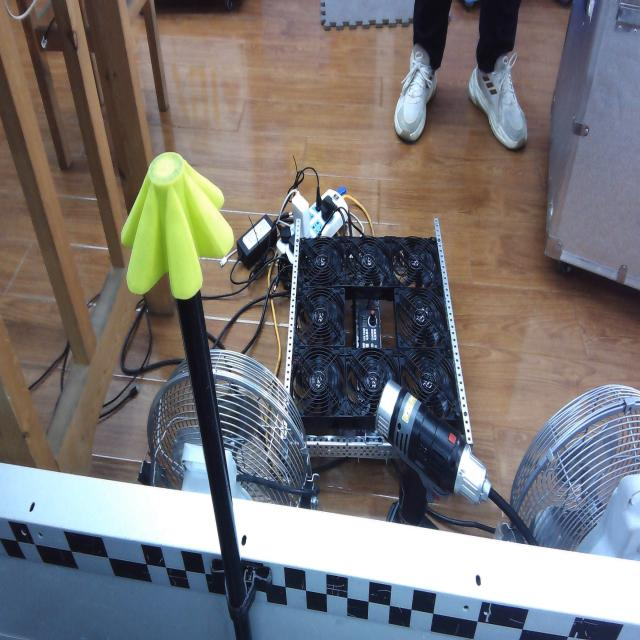Yellow-Stake-Head: (116, 149, 235, 301)
